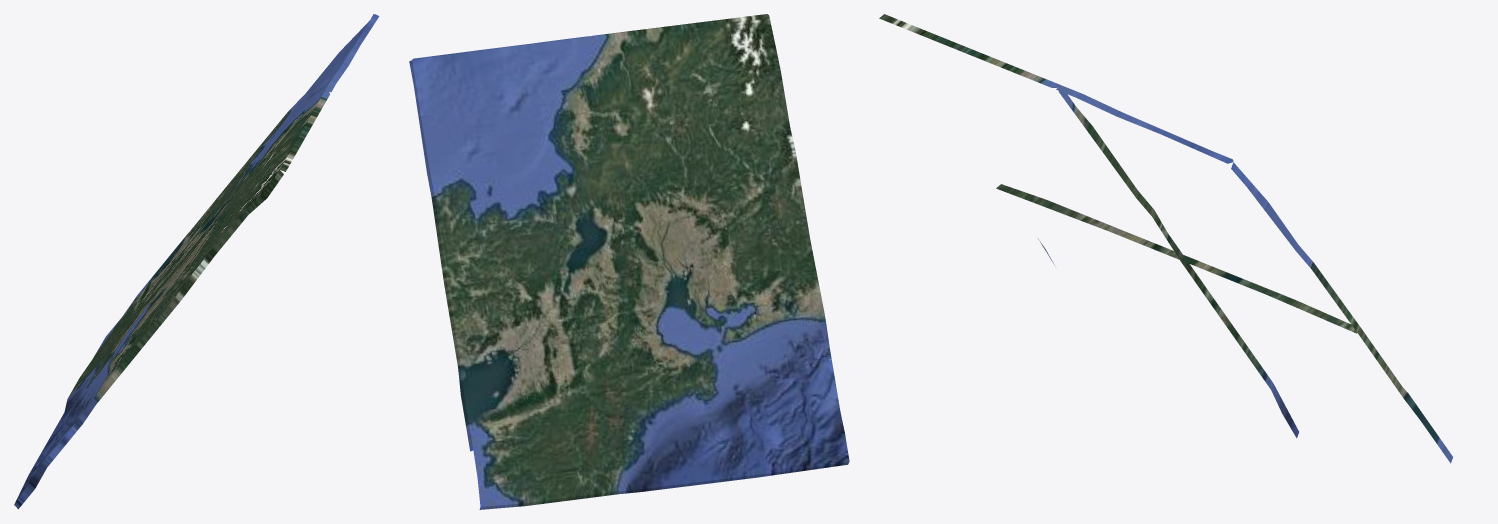
3 renders of one model, left to right at view 1: azimuth 30°, elevation 25°; view 2: azimuth 150°, elevation 25°; view 3: azimuth 270°, elevation 25°, orthographic. The views are drawn at different scales.
Size of the model in its own units: 310774 by 261165 by 312652.
1 material, 1 textured.
